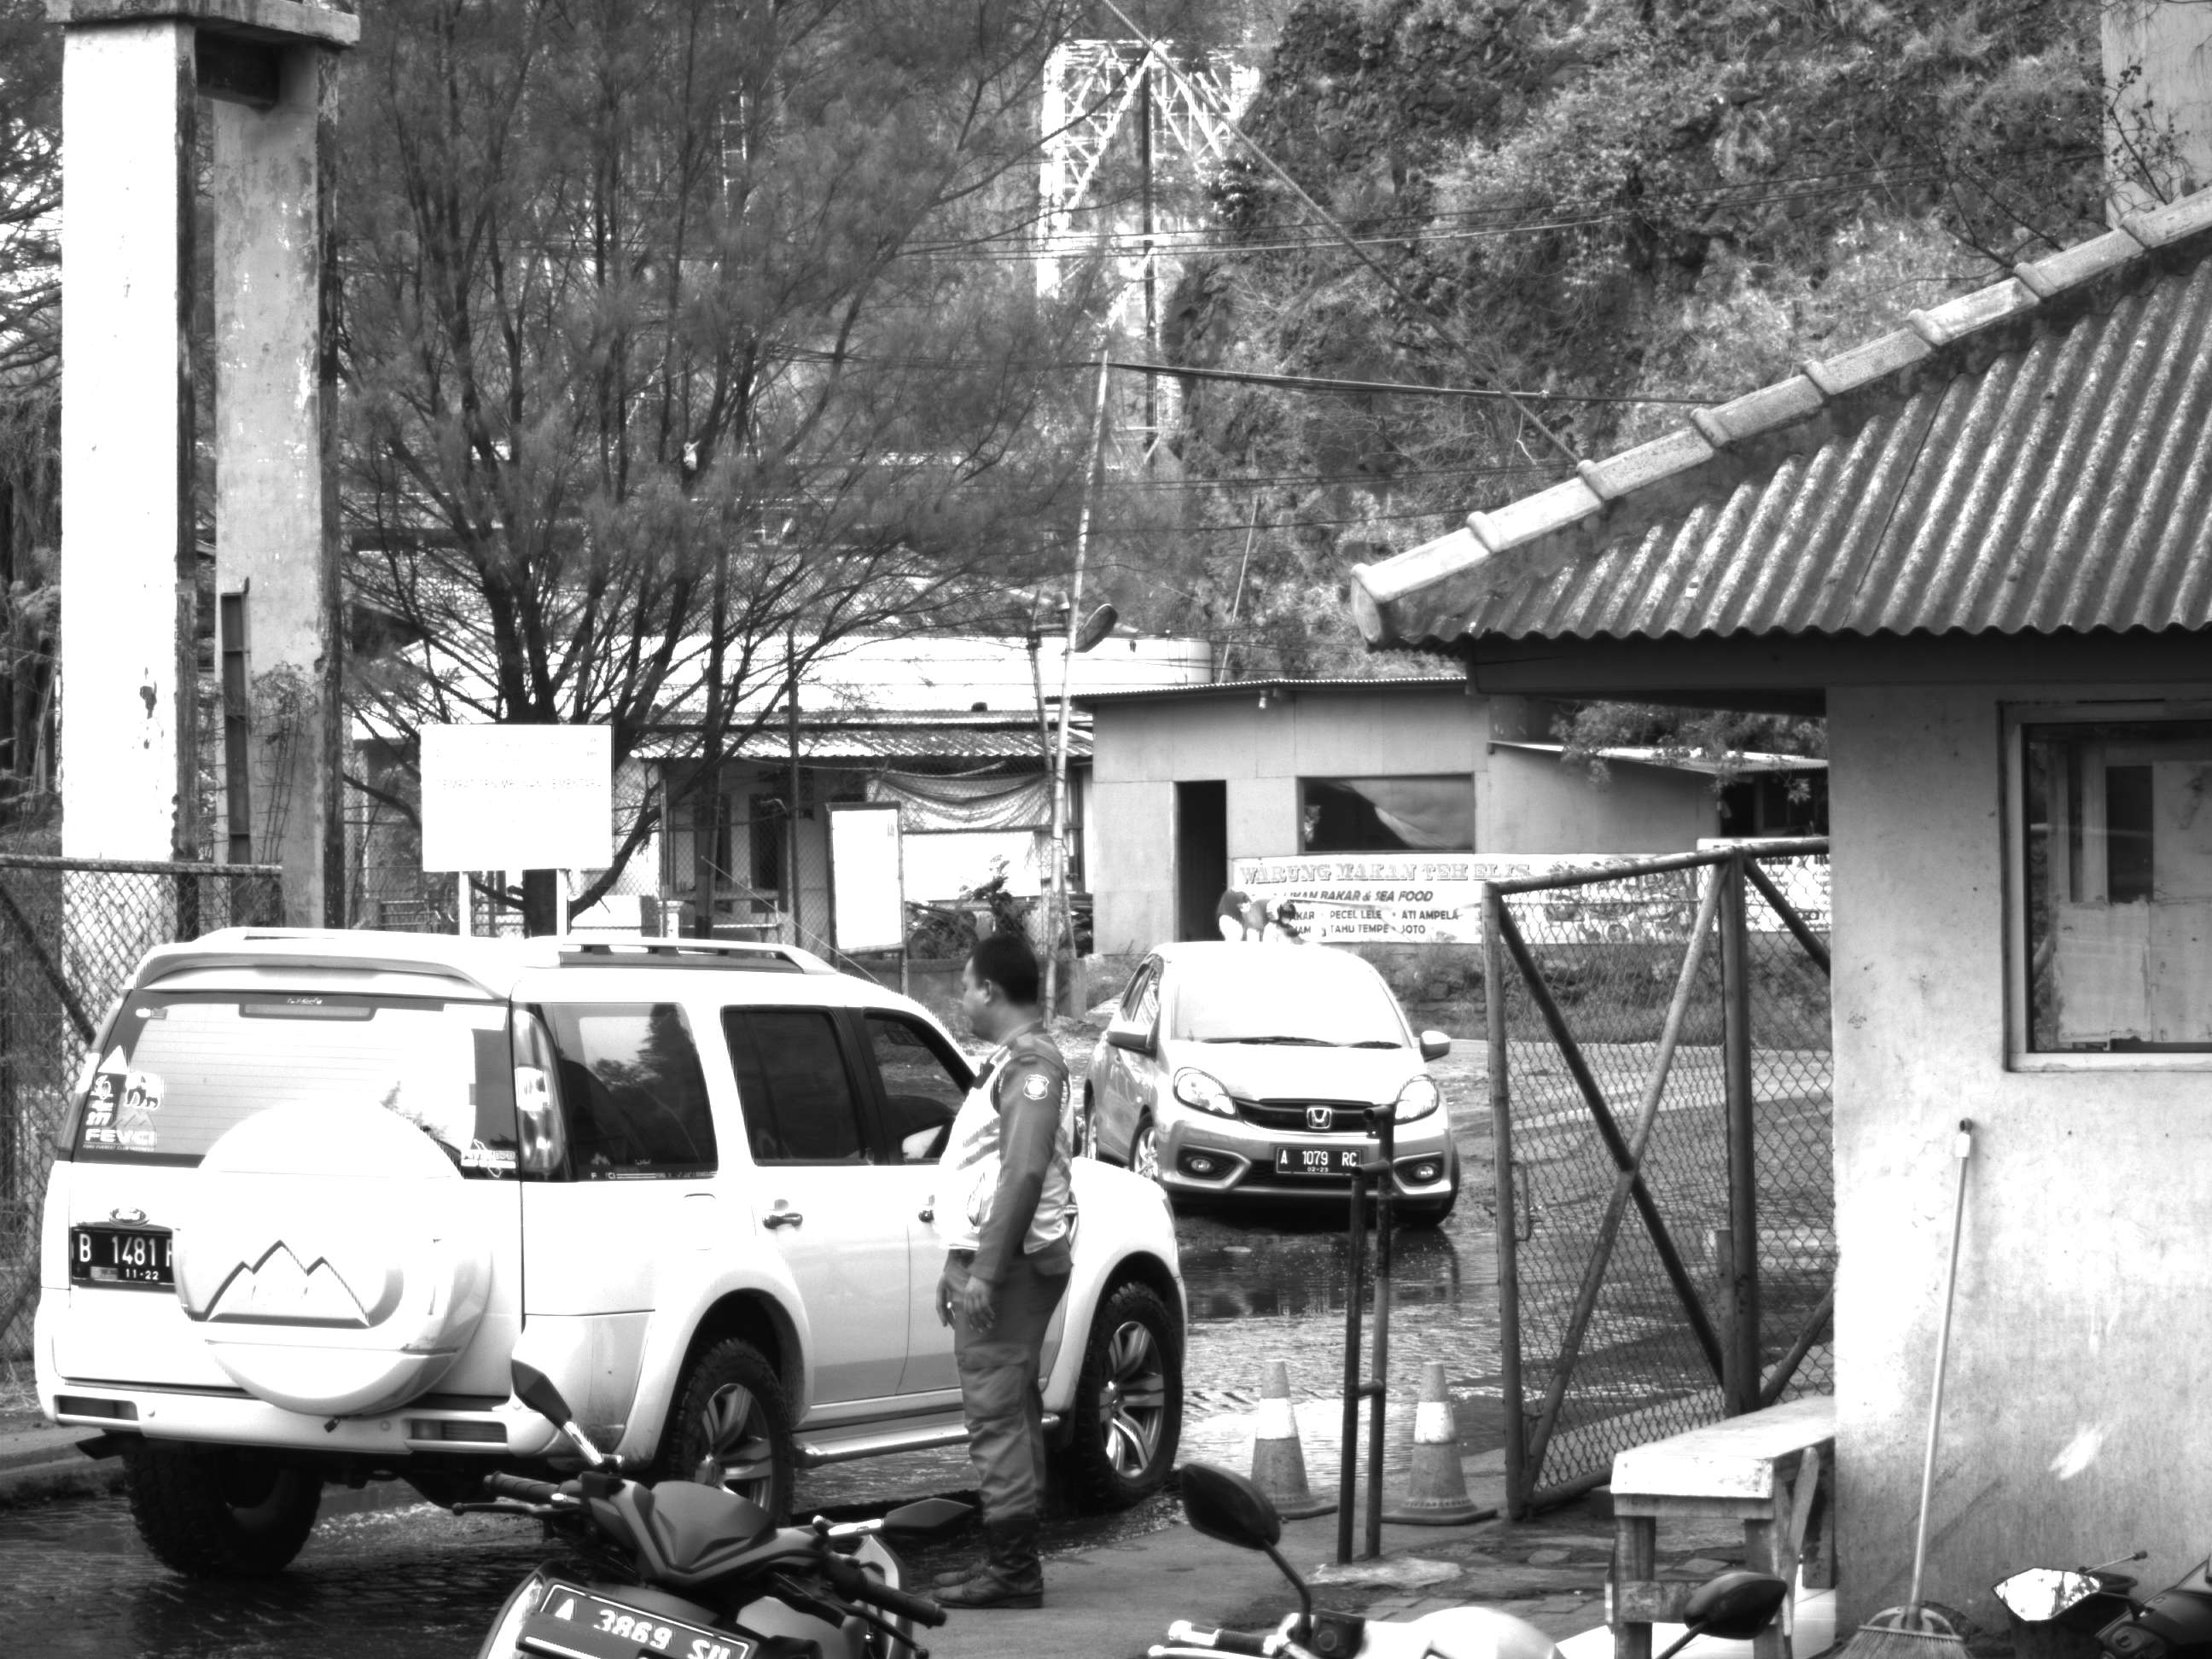day_small_front: (1131, 939, 1470, 1227)
day_small_rear: (31, 905, 817, 1545)
plate: (516, 1569, 754, 1659), (64, 1220, 177, 1293), (1277, 1145, 1371, 1186)
